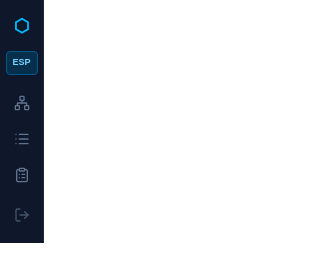
Scenario: updates store and closes popover when a rule system is selected
The width and height of the screenshot is (320, 260).
Click the button titled "Rule system: ESP": click(22, 63) [6, 51, 38, 75]
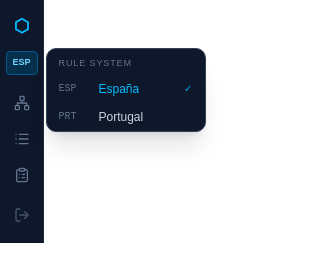
Click the text "Portugal": click(121, 116) [98, 108, 143, 124]
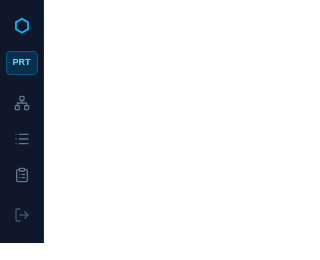
Now the button titled "Rule system: ESP" reads "PRT", box [6, 51, 38, 75]
Now the button "España" is gone
